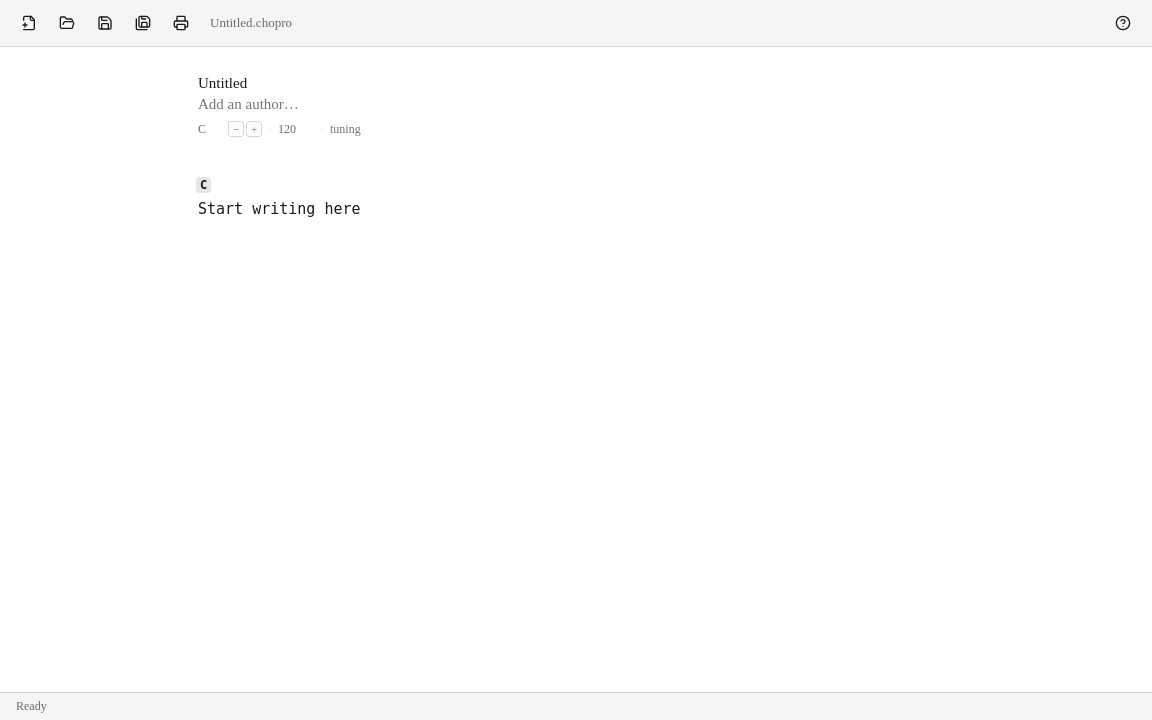
Test case: keyboard navigation between lines › accepts frets typed without spaces, e.g. 032000
The width and height of the screenshot is (1152, 720).
Press / in the 1st text box named "Lyric line", box [198, 197, 954, 221]
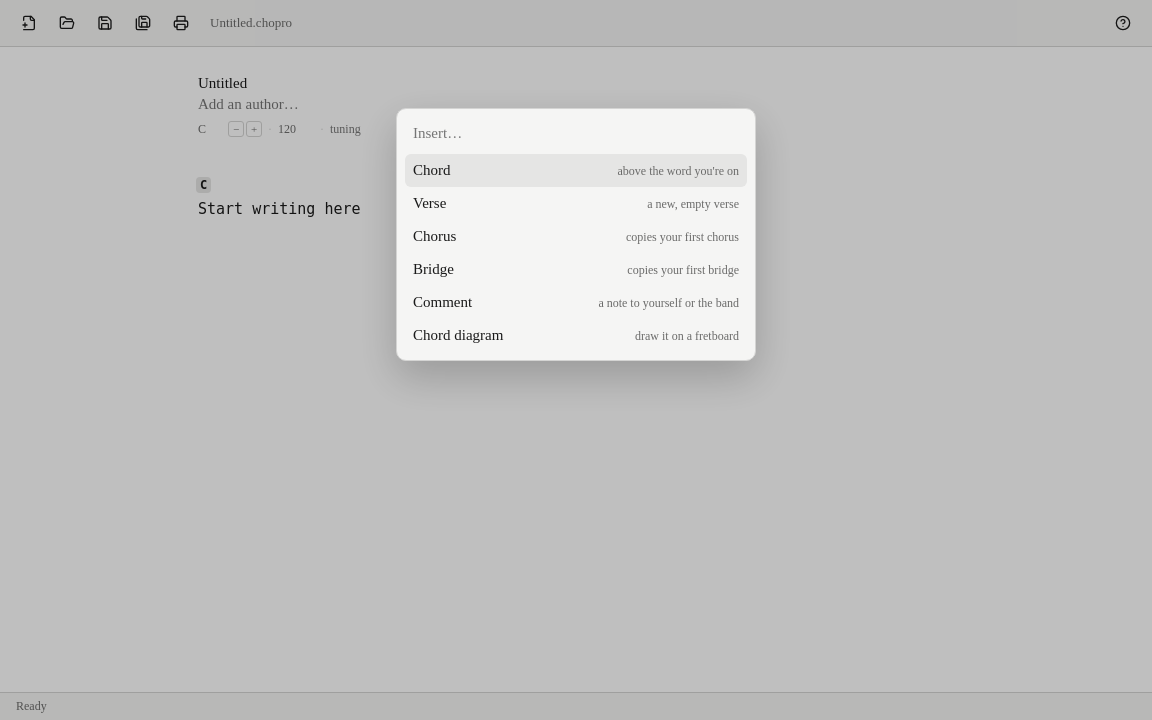
Type "Chord diagram" into the field named "Command palette".
click(576, 134); type("Chord diagram")  # box [405, 117, 747, 150]
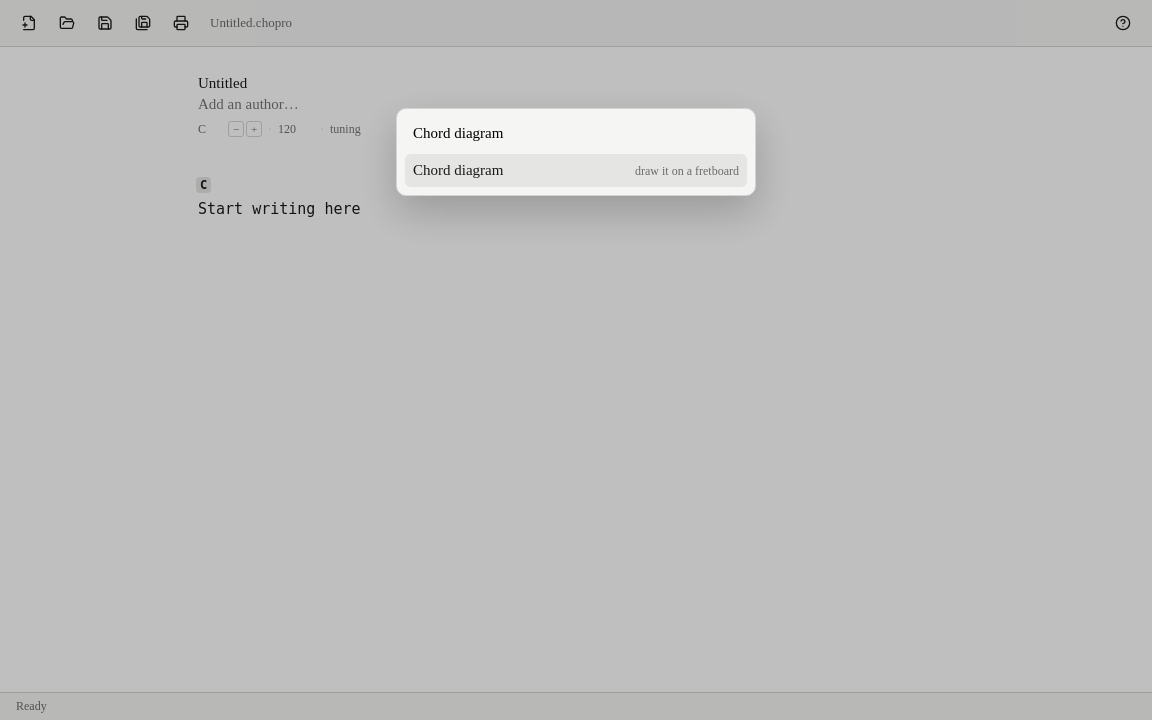
Press Enter in the field named "Command palette", box [405, 117, 747, 150]
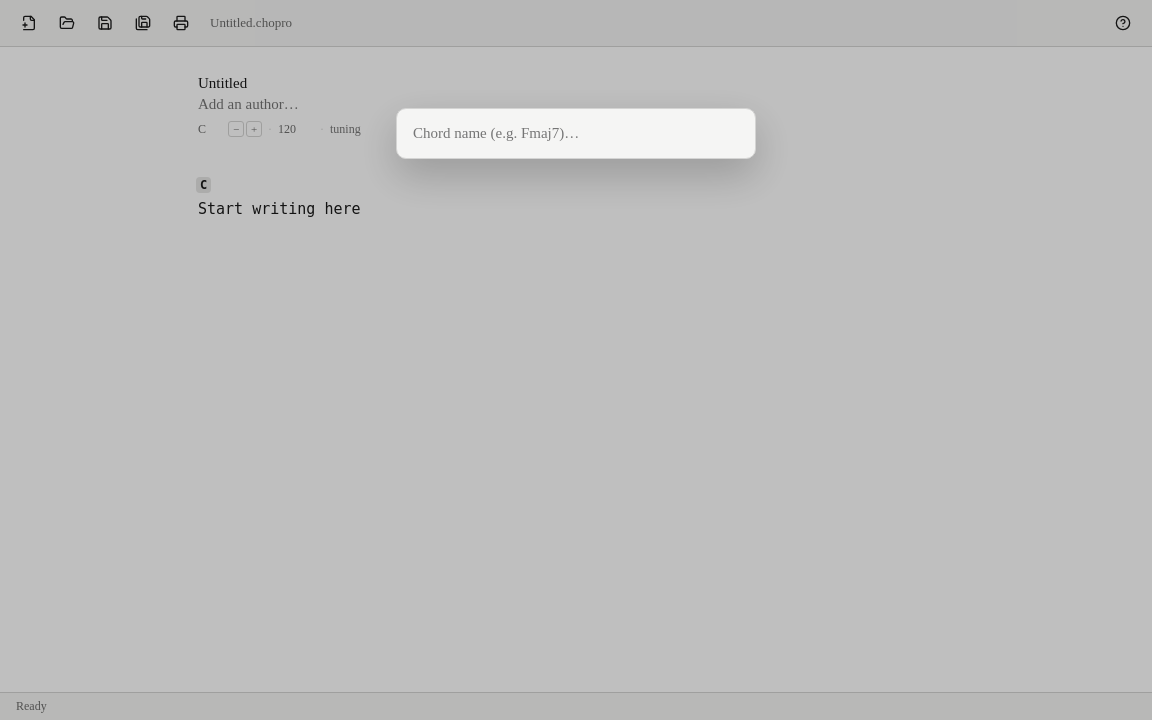
Type "D" into the field labelled "Chord name".
click(576, 134); type("D")  # box [405, 117, 747, 150]
Press Enter in the field named "Chord name", box [405, 117, 747, 150]
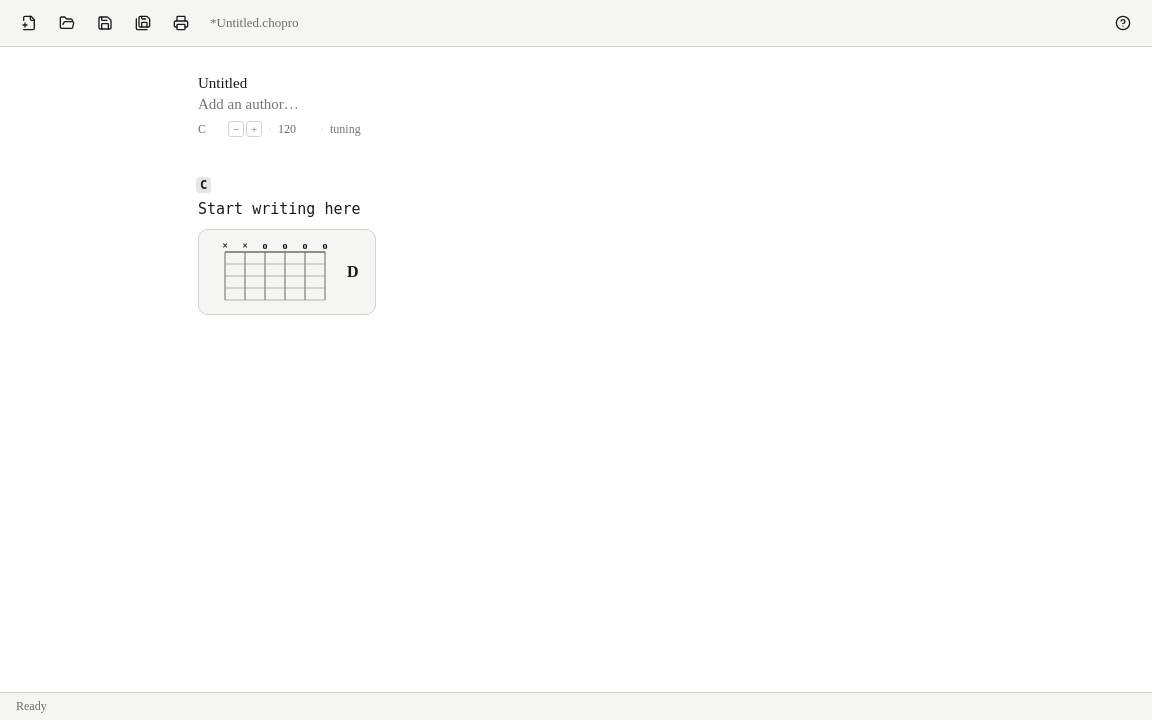
Click the button named "Chord definition for D".
click(287, 272)  # box [198, 229, 376, 315]
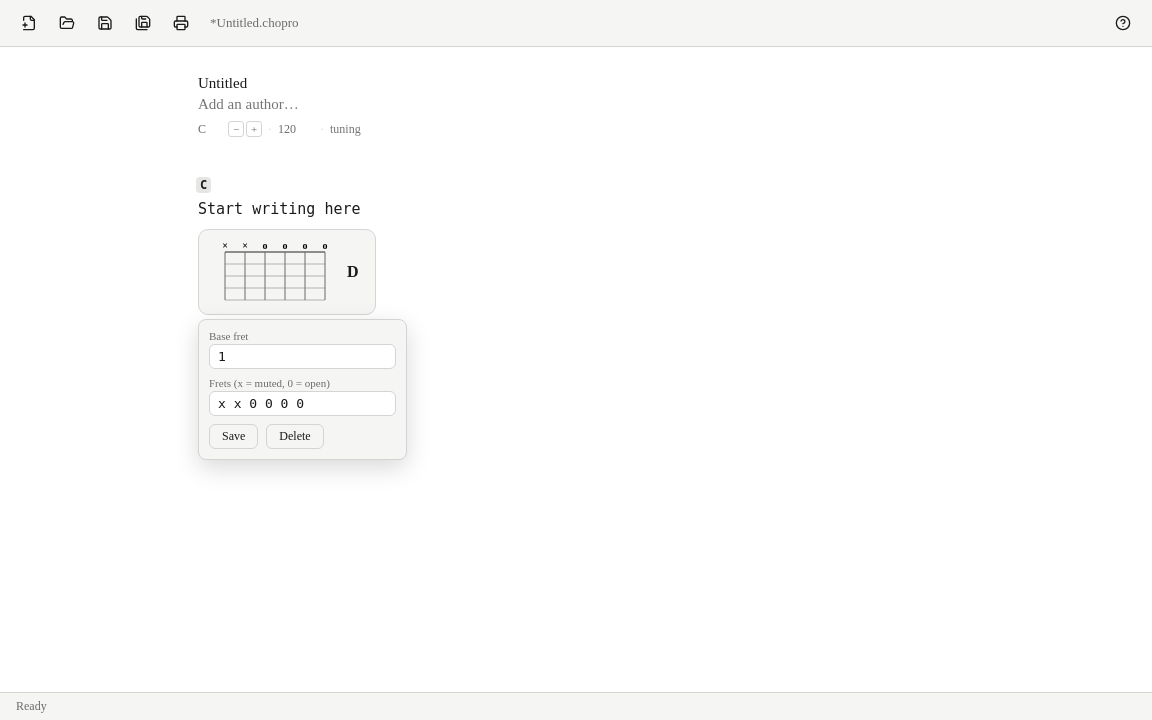
Replace the text in the field labelled "Frets (x = muted, 0 = open)" with "xx0232" at (302,404), box [209, 391, 396, 416]
Click the button "Save".
click(234, 436)  # box [209, 424, 258, 449]
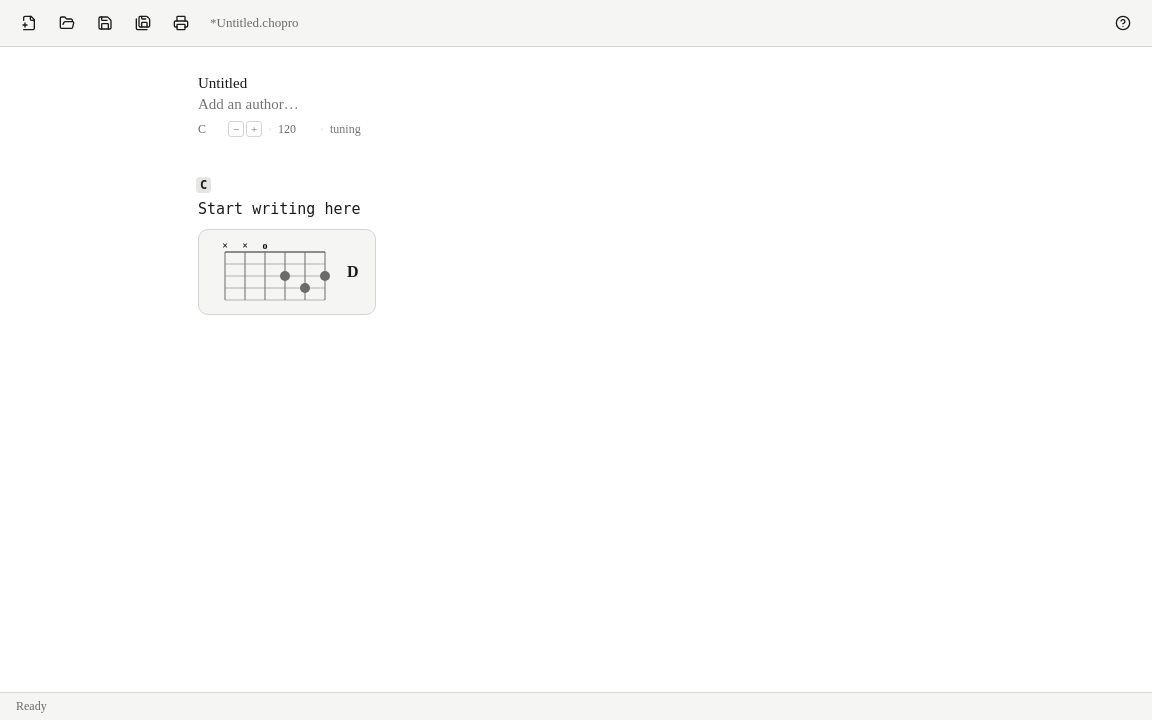
expect the label labelled "Base fret" is gone: met
